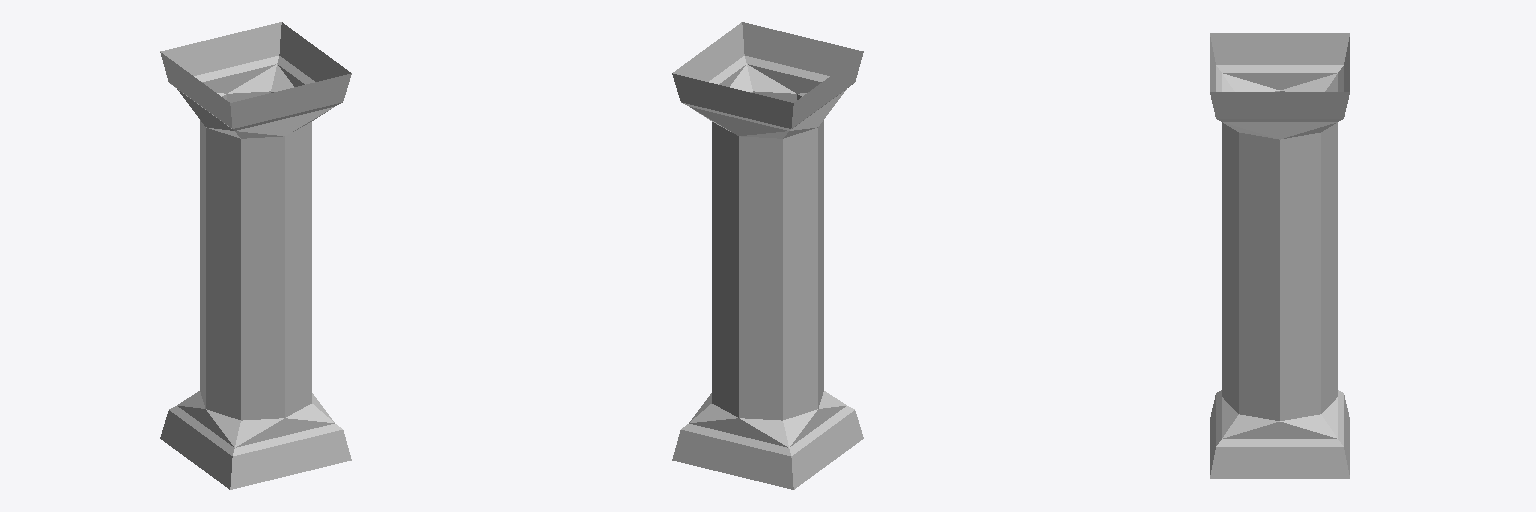
The model's file is pilar.obj.
3 views of the same model, side by side, from view 1: azimuth 30°, elevation 25°; view 2: azimuth 150°, elevation 25°; view 3: azimuth 270°, elevation 25° (orthographic).
Parts seen in each view (by area): view 1: Cube_Cube.001; view 2: Cube_Cube.001; view 3: Cube_Cube.001.
Part boxes in pixels (bbox=[...]): Cube_Cube.001: bbox=[160, 22, 351, 489]; Cube_Cube.001: bbox=[672, 22, 863, 489]; Cube_Cube.001: bbox=[1210, 33, 1349, 478].
Size of the model in its own units: 0.9874 by 3 by 0.9874.